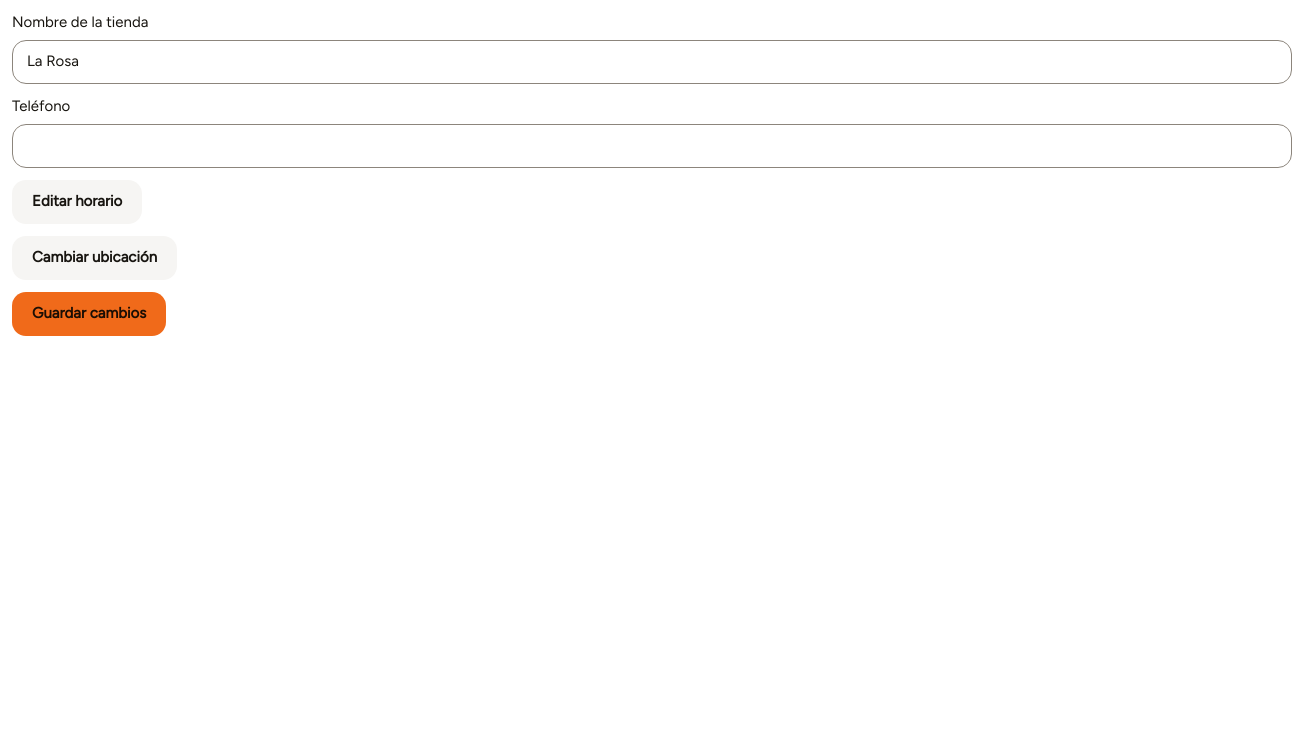
Test: editor de horario › «Copiar el horario del lunes a los demás días» solo se puede usar con el lunes abierto
Later steps or results of the test are not shown.
Click the button "Editar horario" at (77, 202), box [12,180,142,224]
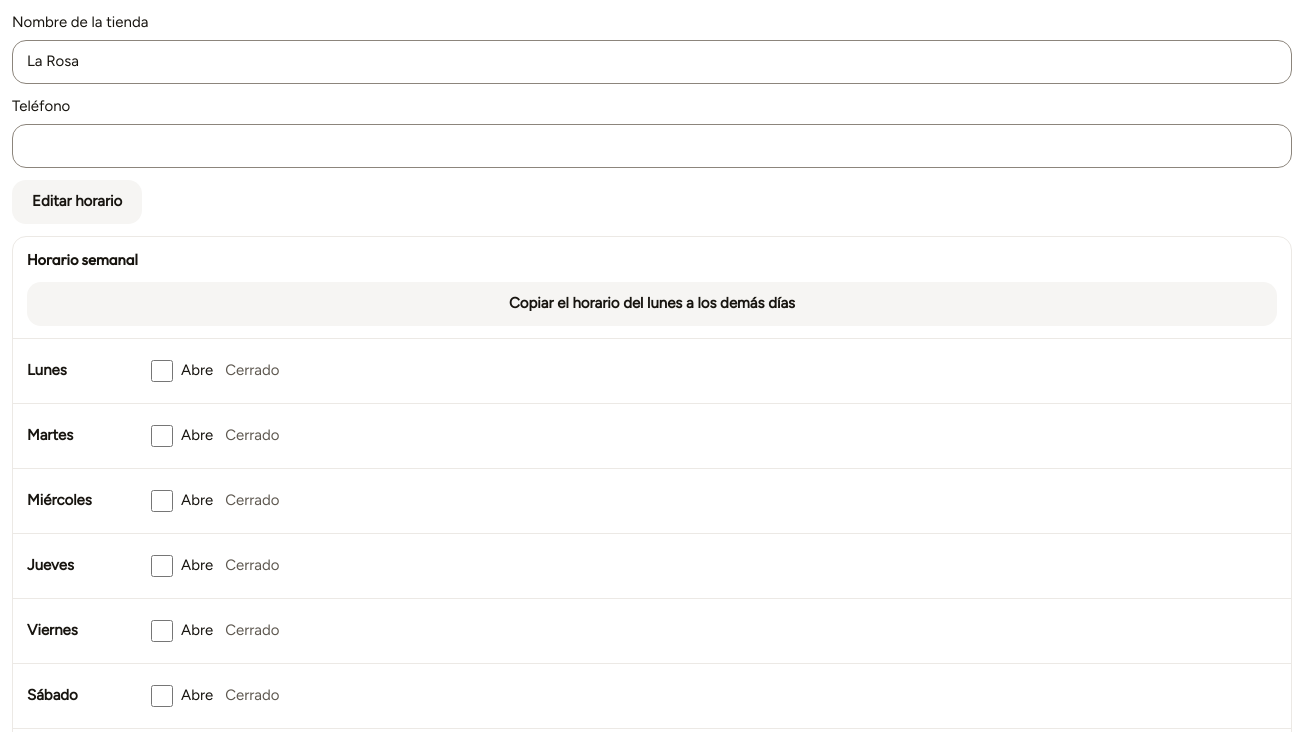
Result: the button "Copiar el horario del lunes a los demás días" is disabled at [27,282,1277,326]
